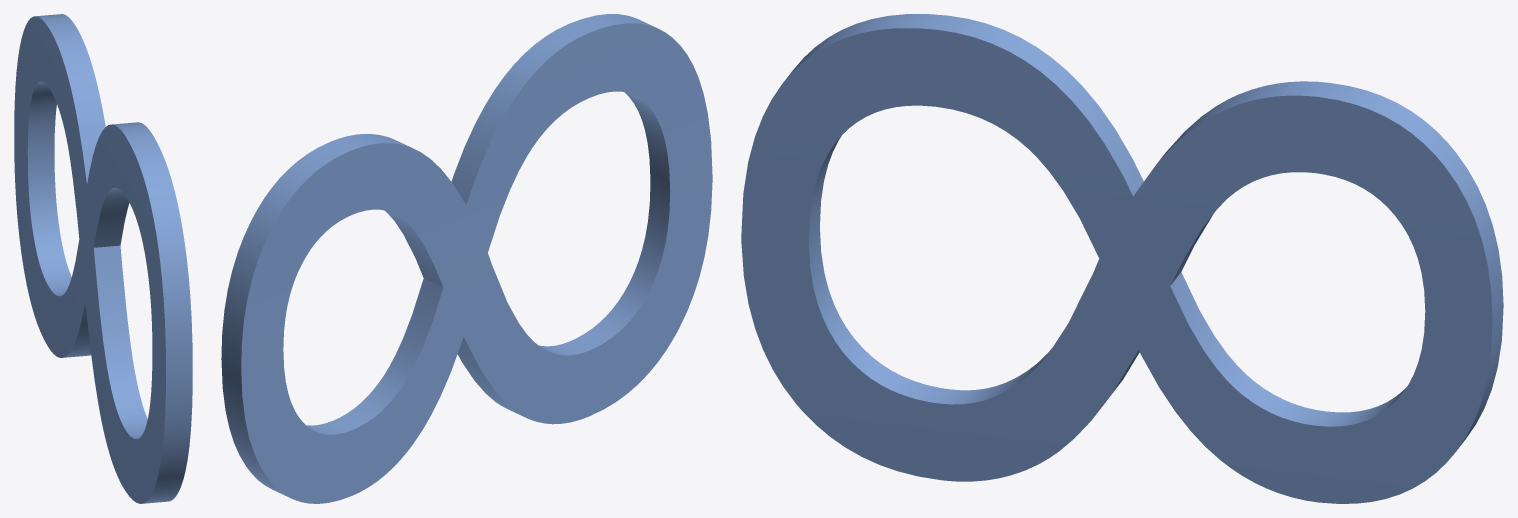
Rendered from New_Number_8.gltf.
3 views of the same model, side by side, from view 1: azimuth 30°, elevation 25°; view 2: azimuth 150°, elevation 25°; view 3: azimuth 270°, elevation 25° (orthographic). The views are drawn at different scales.
Visible parts, largest first — view 1: Part 674; view 2: Part 674; view 3: Part 674.
Boxes of the visible parts, left/top/right/bottom form: Part 674: left=14, top=14, right=192, bottom=503; Part 674: left=221, top=14, right=712, bottom=503; Part 674: left=741, top=14, right=1503, bottom=503.
Size of the model in its own units: 0.00176 by 0.00362 by 0.00554.
